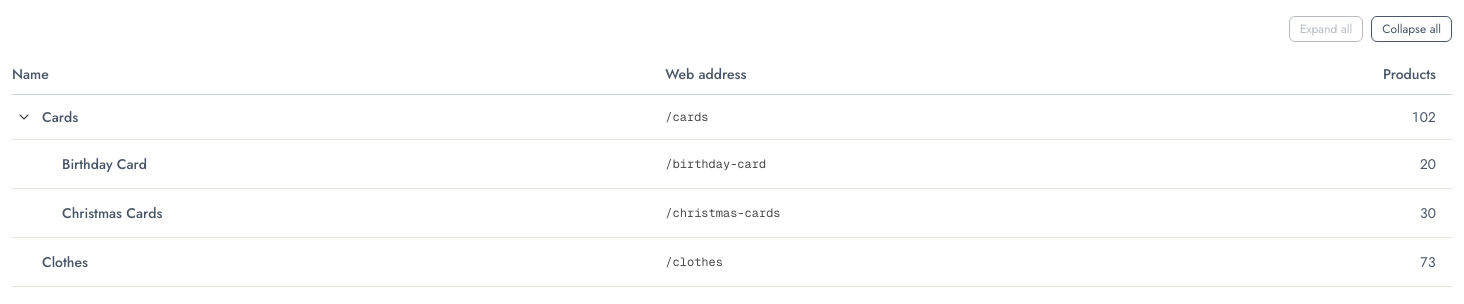
Test case: CategoryTable › shuts a group, hiding what is inside it
Click the button named "Collapse Cards".
click(24, 117)  # box [12,105,36,129]
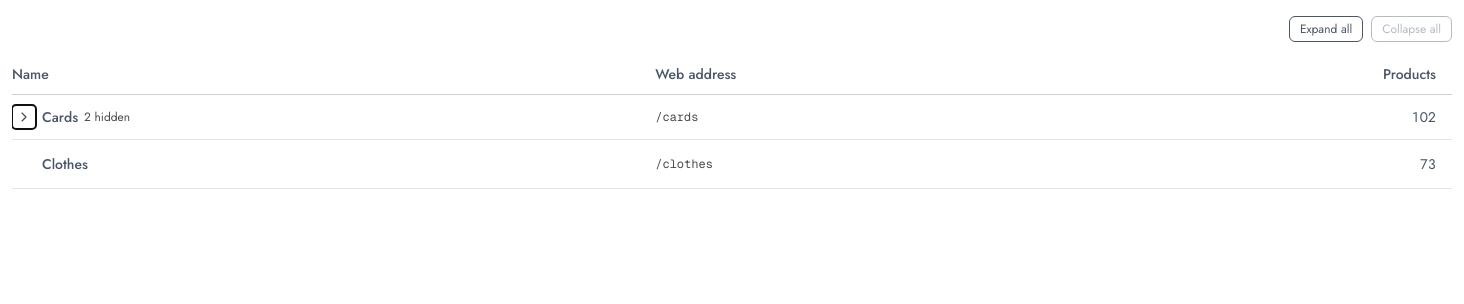
Expected: the link "Clothes" is shown, [42,154,88,174]
Expected: the link "Birthday Card" is gone
